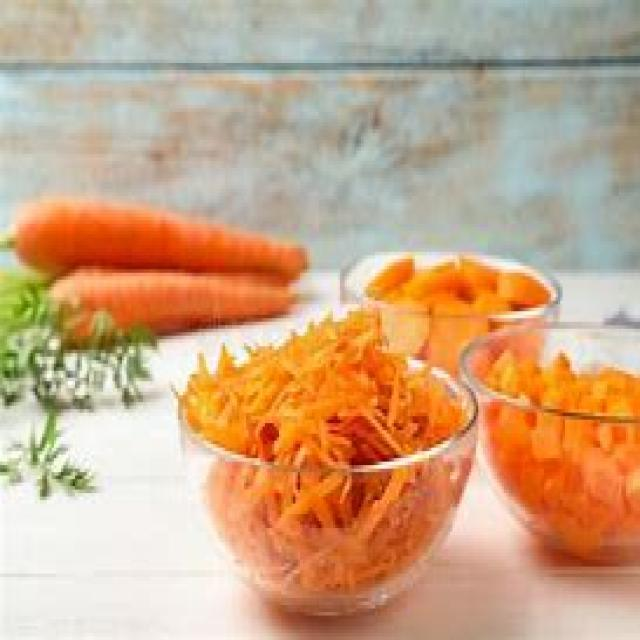carrot: (12, 197, 306, 274), (45, 270, 303, 332)
